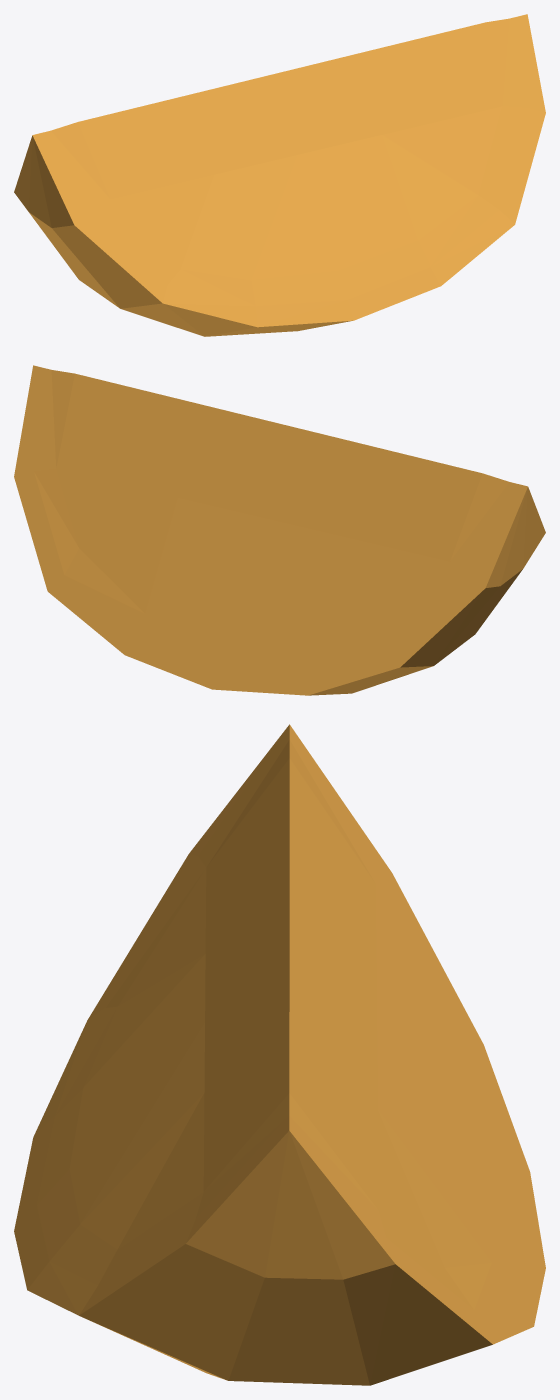
The model's file is melon-slice.fbx.
The picture shows the model from 3 angles, top to bottom: view 1: azimuth 30°, elevation 25°; view 2: azimuth 150°, elevation 25°; view 3: azimuth 270°, elevation 25°; orthographic projection. The views are drawn at different scales.
Visible parts, largest first — view 1: melon-slice; view 2: melon-slice; view 3: melon-slice.
Part boxes in pixels (x1,y1,x2,y2): melon-slice: [14, 14, 545, 336]; melon-slice: [14, 365, 545, 695]; melon-slice: [14, 724, 545, 1385].
Size of the model in its own units: 0.3859 by 0.1796 by 0.2133.
